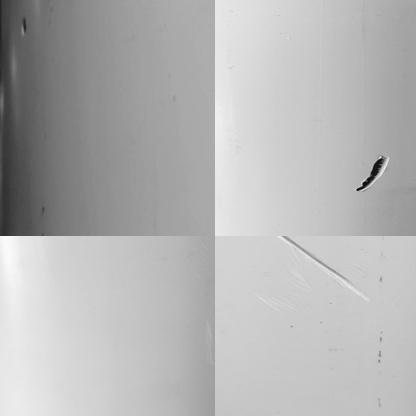kongdong: (350, 152, 391, 193), (16, 17, 32, 37)
sunshang: (276, 234, 374, 301)
